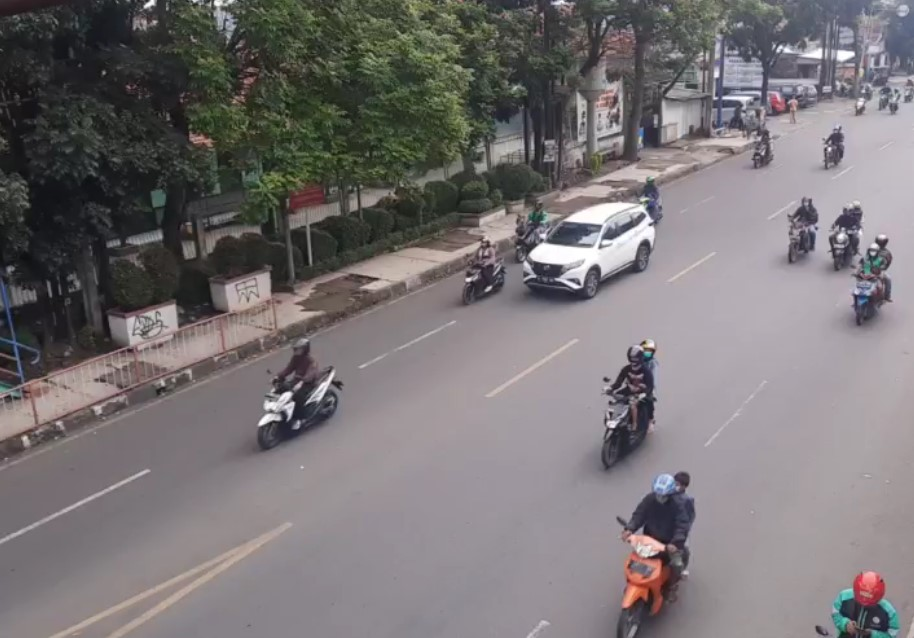motor: (607, 471, 708, 638), (249, 335, 346, 447), (593, 338, 661, 474), (850, 235, 900, 329), (452, 237, 506, 313), (773, 199, 821, 261), (827, 201, 865, 275), (511, 200, 545, 253)
